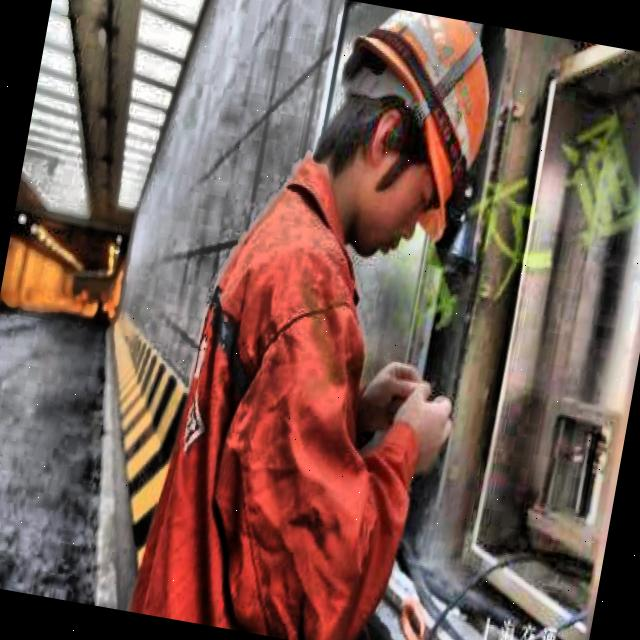helmet: (292, 0, 512, 288)
